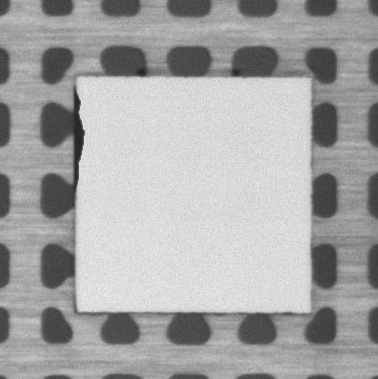DIE_BROKEN: (71, 82, 87, 197)
